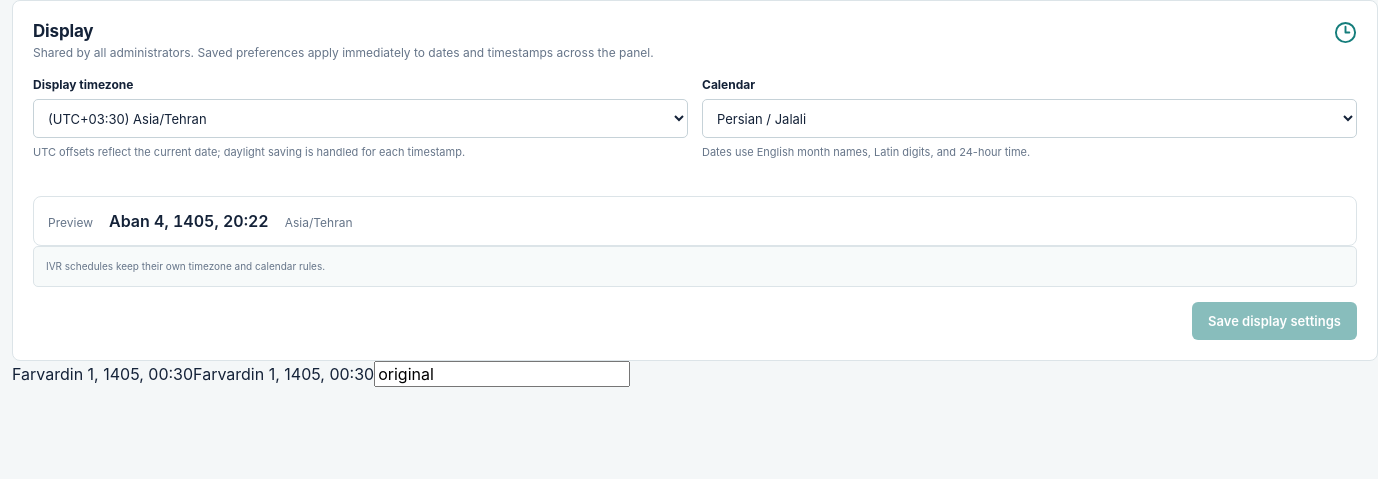
Test: shared display preferences › keeps applied settings on save failure and lets the same selection be retried
Step 1. Select "(UTC+00:00) UTC" in the dropdown labelled "Display timezone" → (360, 118), box [33,99,688,138]
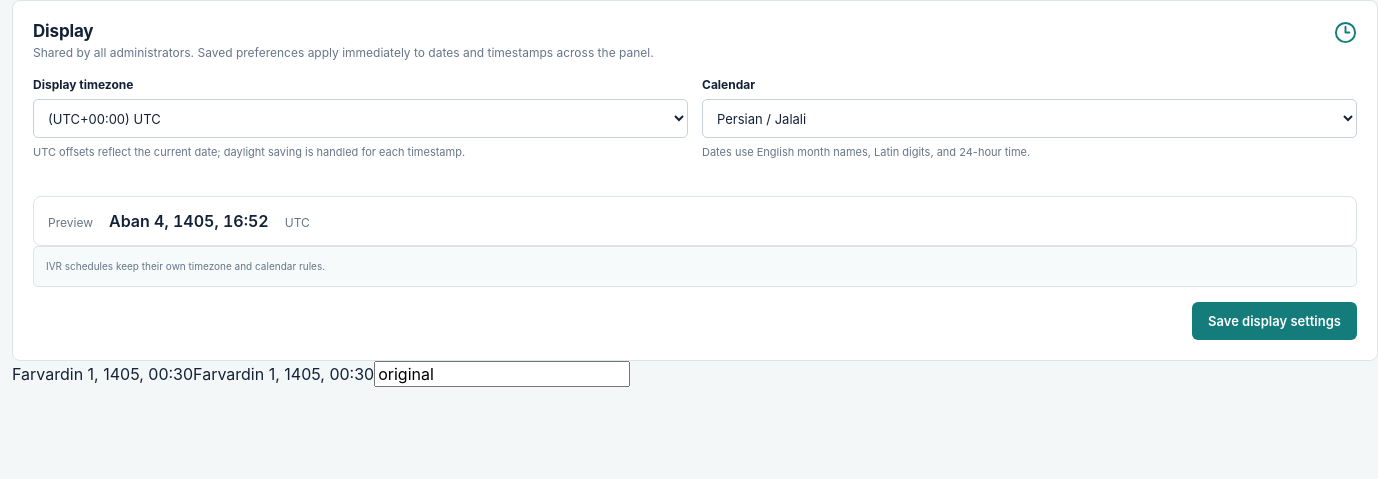
Step 2. Click the button "Save display settings" → (1274, 321), box [1192,302,1357,340]
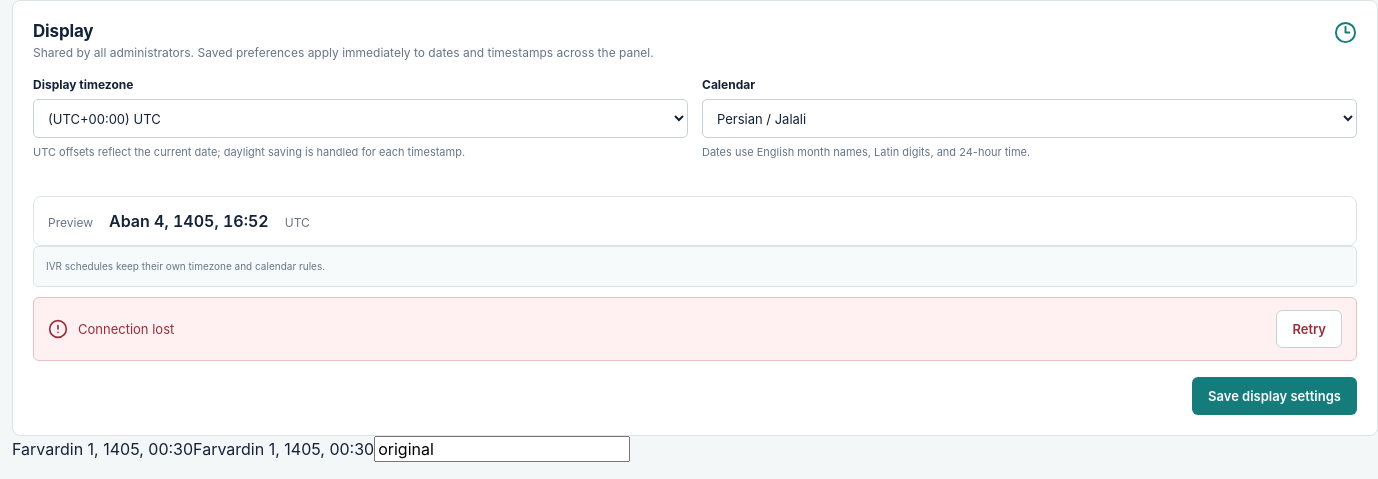
expect the text named "Call timestamp" reads "Farvardin 1, 1405, 00:30": met, box [12,439,193,459]
Step 3. Click the button "Retry" → (1309, 329), box [1276,310,1342,348]
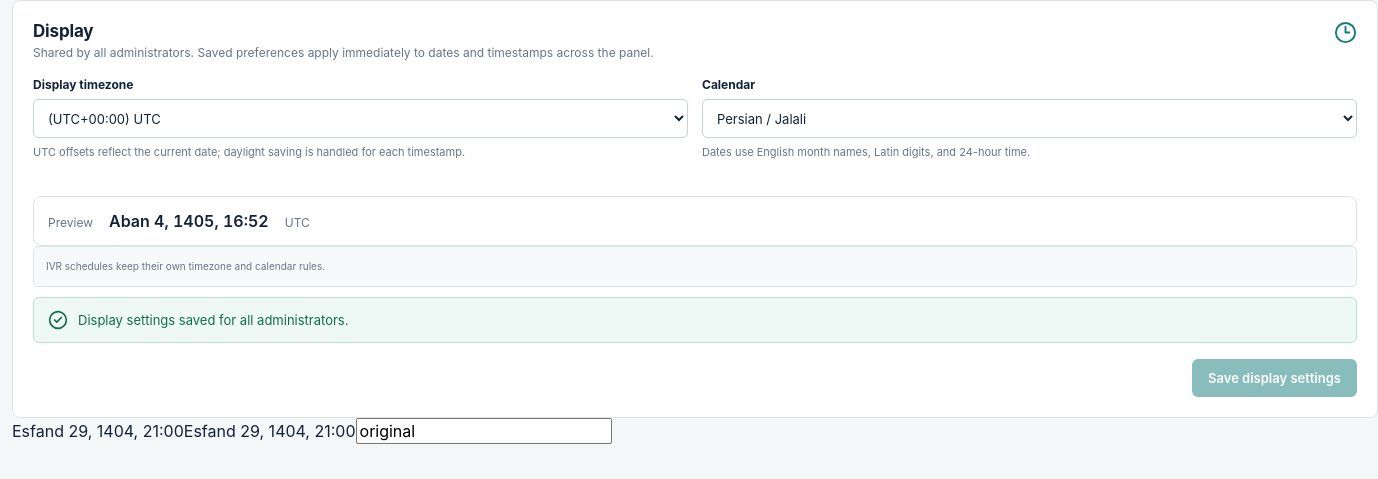
expect the text "Display settings saved for all administrators." is shown: met, box [78,312,348,328]
expect the text named "Call timestamp" reads "Esfand 29, 1404, 21:00": met, box [12,421,184,441]
